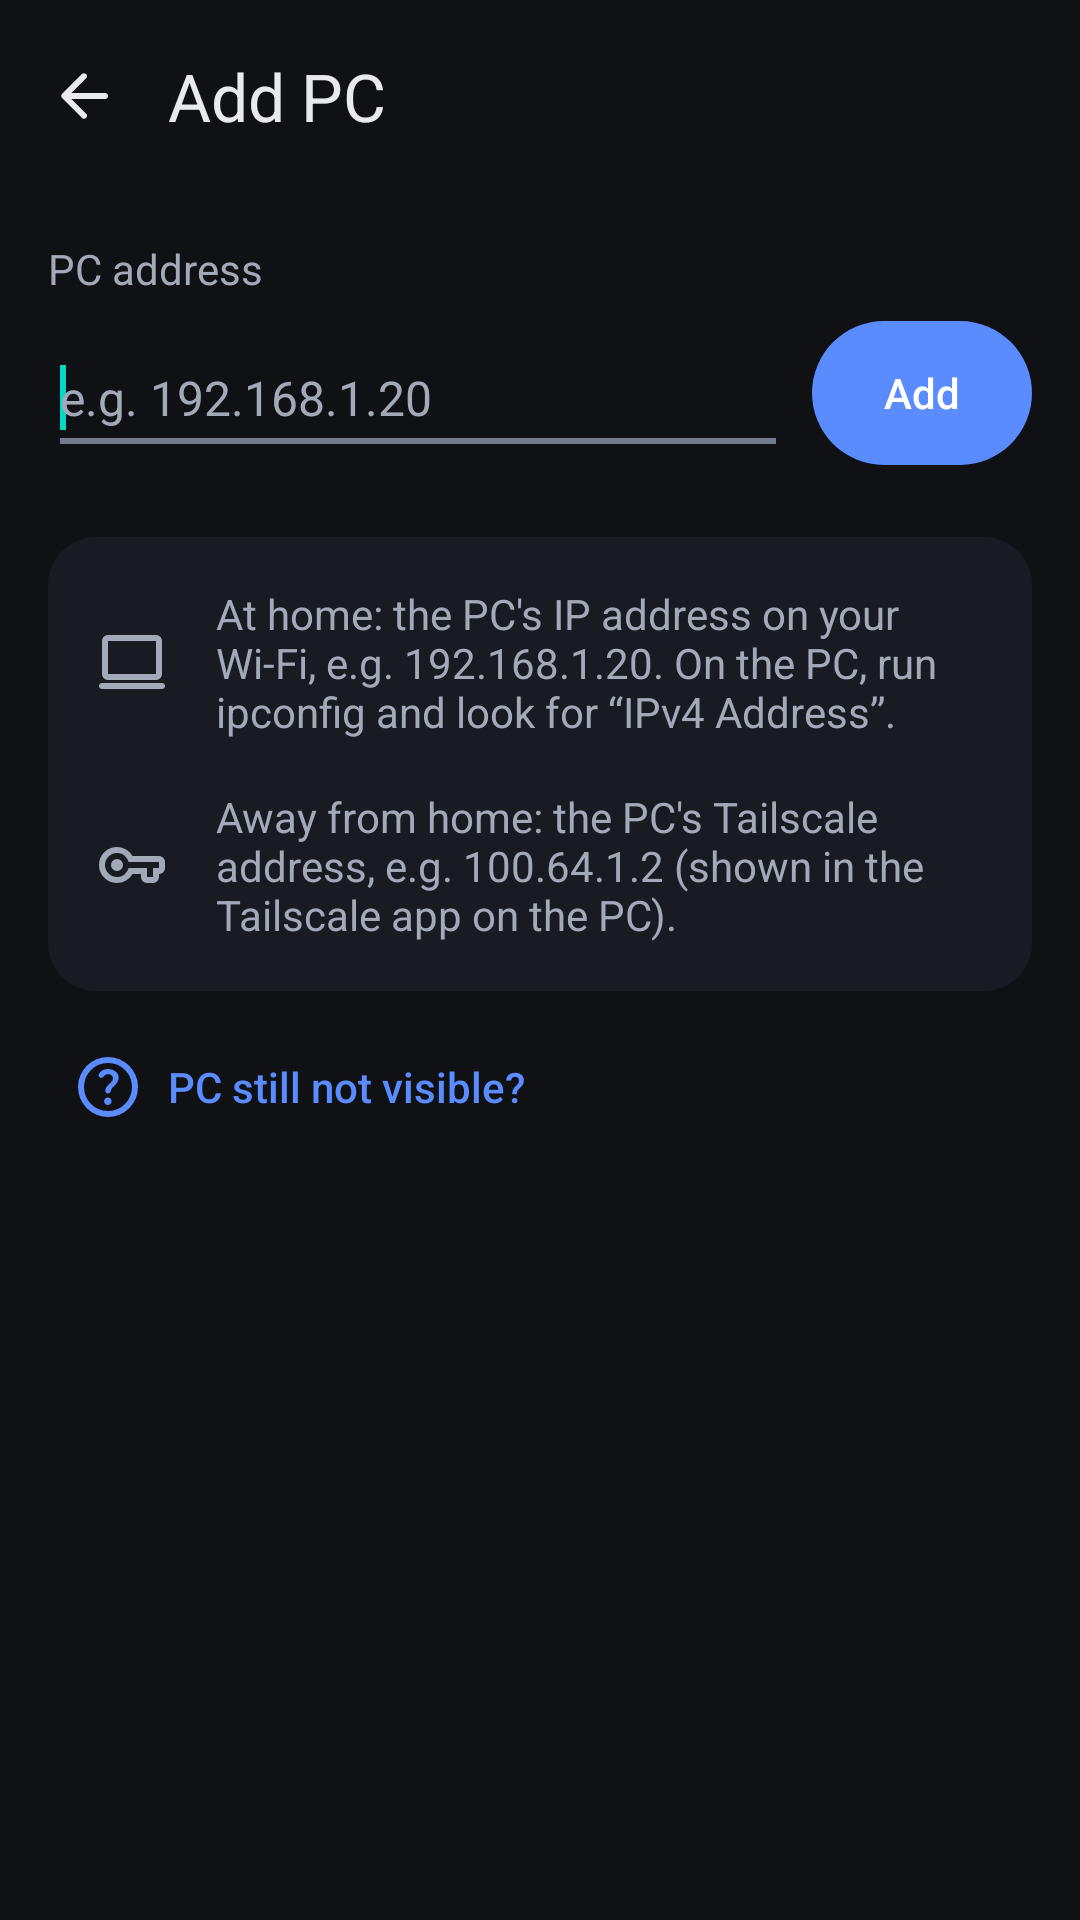

Icon bounding boxes for this 1080px x 1920px phone screenshot, format [x1, y1, x2, y2]:
Go back: [61, 73, 108, 119]
